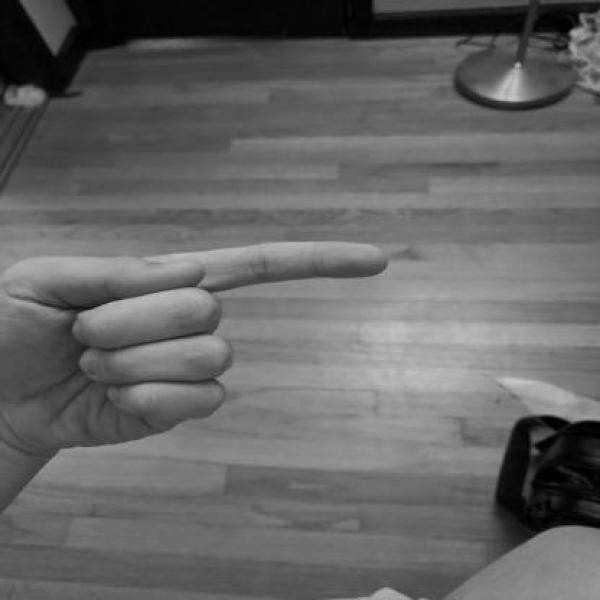G: (0, 236, 400, 454)
